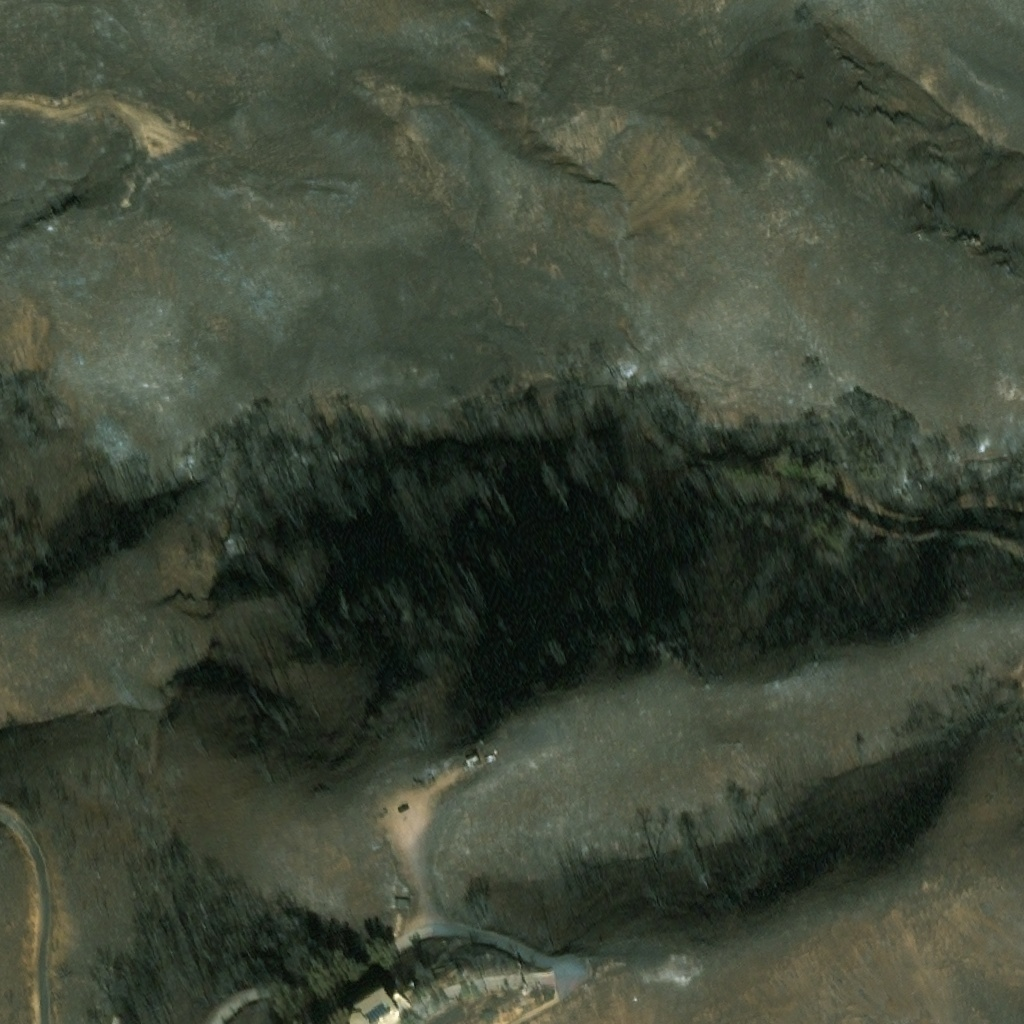0 no-damage: (361, 1002, 402, 1023), (392, 999, 411, 1020)
1 minor-damage: (461, 758, 482, 775), (392, 894, 408, 902)
2 major-damage: (434, 966, 458, 985)
